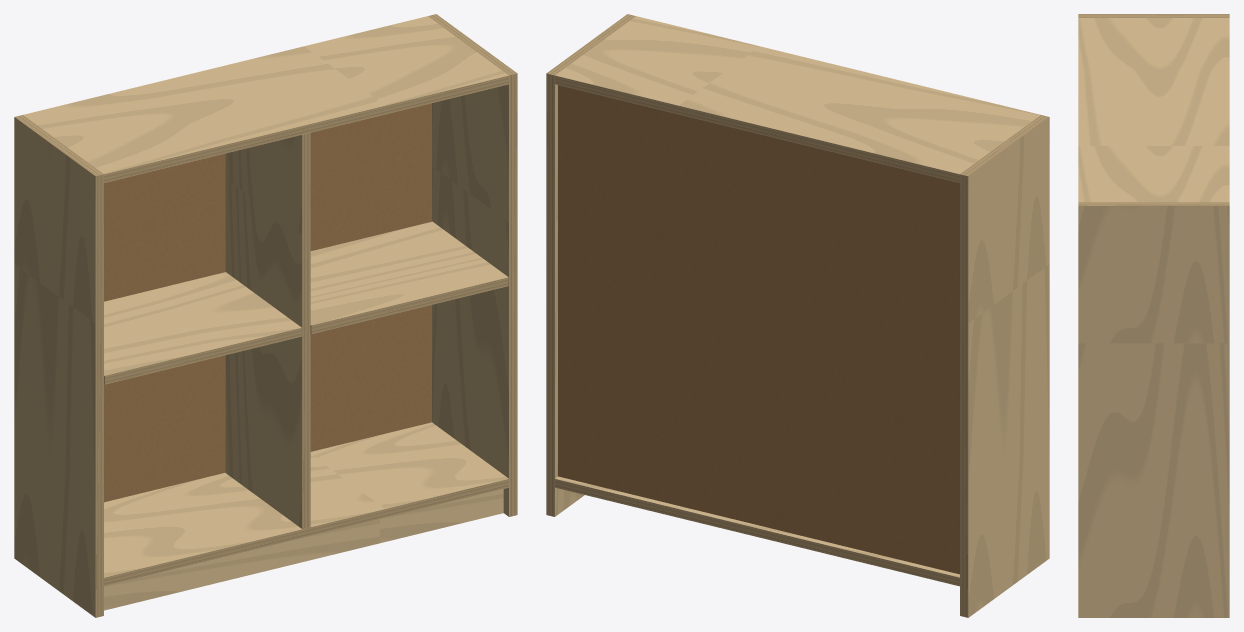
The model's file is SAB-KBK-low.glb.
3 renders of one model, left to right at view 1: azimuth 30°, elevation 25°; view 2: azimuth 150°, elevation 25°; view 3: azimuth 270°, elevation 25°, orthographic. The views are drawn at different scales.
Parts seen in each view (by area): view 1: back:sheet:eyJtIjoibWRmIiwic2lkZSI6ImZhY2UiLCJzZWVkIjoxLCJ0a, side-l:sheet:eyJtIjoicGx5Iiwic2lkZSI6ImZhY2UiLCJzZWVkIjoxLCJ, top:sheet:eyJtIjoicGx5Iiwic2lkZSI6ImZhY2UiLCJzZWVkIjo2LCJ2ZW, bottom:sheet:eyJtIjoicGx5Iiwic2lkZSI6ImZhY2UiLCJzZWVkIjowLCJ, partition:sheet:eyJtIjoicGx5Iiwic2lkZSI6ImZhY2UiLCJzZWVkIjo0, side-r:sheet:eyJtIjoicGx5Iiwic2lkZSI6ImZhY2UiLCJzZWVkIjozLCJ, shelf-2:sheet:eyJtIjoicGx5Iiwic2lkZSI6ImZhY2UiLCJzZWVkIjo1LC, shelf-1:sheet:eyJtIjoicGx5Iiwic2lkZSI6ImZhY2UiLCJzZWVkIjoyLC, plinth:sheet:eyJtIjoicGx5Iiwic2lkZSI6ImZhY2UiLCJzZWVkIjozLCJ, side-l:sheet:eyJtIjoicGx5Iiwic2lkZSI6ImVkZ2UtbG9uZyIsInNlZWQ, side-r:sheet:eyJtIjoicGx5Iiwic2lkZSI6ImVkZ2UtbG9uZyIsInNlZWQ, bottom:sheet:eyJtIjoicGx5Iiwic2lkZSI6ImVkZ2UtbG9uZyIsInNlZWQ (+6 smaller); view 2: back:sheet:eyJtIjoibWRmIiwic2lkZSI6ImZhY2UiLCJzZWVkIjoxLCJ0a, side-l:sheet:eyJtIjoicGx5Iiwic2lkZSI6ImZhY2UiLCJzZWVkIjoxLCJ, top:sheet:eyJtIjoicGx5Iiwic2lkZSI6ImZhY2UiLCJzZWVkIjo2LCJ2ZW, side-l:sheet:eyJtIjoicGx5Iiwic2lkZSI6ImVkZ2UtbG9uZyIsInNlZWQ, side-r:sheet:eyJtIjoicGx5Iiwic2lkZSI6ImVkZ2UtbG9uZyIsInNlZWQ, bottom:sheet:eyJtIjoicGx5Iiwic2lkZSI6ImVkZ2UtbG9uZyIsInNlZWQ, top:sheet:eyJtIjoicGx5Iiwic2lkZSI6ImVkZ2UtbG9uZyIsInNlZWQiOj, side-r:sheet:eyJtIjoicGx5Iiwic2lkZSI6ImZhY2UiLCJzZWVkIjozLCJ, bottom:sheet:eyJtIjoicGx5Iiwic2lkZSI6ImZhY2UiLCJzZWVkIjowLCJ, side-r:sheet:eyJtIjoicGx5Iiwic2lkZSI6ImVkZ2UtZW5kIiwic2VlZCI, side-l:sheet:eyJtIjoicGx5Iiwic2lkZSI6ImVkZ2UtZW5kIiwic2VlZCI; view 3: side-r:sheet:eyJtIjoicGx5Iiwic2lkZSI6ImZhY2UiLCJzZWVkIjozLCJ, top:sheet:eyJtIjoicGx5Iiwic2lkZSI6ImZhY2UiLCJzZWVkIjo2LCJ2ZW, side-l:sheet:eyJtIjoicGx5Iiwic2lkZSI6ImVkZ2UtZW5kIiwic2VlZCI, side-r:sheet:eyJtIjoicGx5Iiwic2lkZSI6ImVkZ2UtZW5kIiwic2VlZCI.
Part boxes in pixels (x1,y1,x2,y2): back:sheet:eyJtIjoibWRmIiwic2lkZSI6ImZhY2UiLCJzZWVkIjoxLCJ0a: (104,103,431,502); side-l:sheet:eyJtIjoicGx5Iiwic2lkZSI6ImZhY2UiLCJzZWVkIjoxLCJ: (14,117,95,617); top:sheet:eyJtIjoicGx5Iiwic2lkZSI6ImZhY2UiLCJzZWVkIjo2LCJ2ZW: (23,16,508,174); bottom:sheet:eyJtIjoicGx5Iiwic2lkZSI6ImZhY2UiLCJzZWVkIjowLCJ: (104,422,508,577); partition:sheet:eyJtIjoicGx5Iiwic2lkZSI6ImZhY2UiLCJzZWVkIjo0: (225,135,302,528); side-r:sheet:eyJtIjoicGx5Iiwic2lkZSI6ImZhY2UiLCJzZWVkIjozLCJ: (432,84,508,516); shelf-2:sheet:eyJtIjoicGx5Iiwic2lkZSI6ImZhY2UiLCJzZWVkIjo1LC: (310,221,508,325); shelf-1:sheet:eyJtIjoicGx5Iiwic2lkZSI6ImZhY2UiLCJzZWVkIjoyLC: (104,272,301,375); plinth:sheet:eyJtIjoicGx5Iiwic2lkZSI6ImZhY2UiLCJzZWVkIjozLCJ: (104,489,503,610); side-l:sheet:eyJtIjoicGx5Iiwic2lkZSI6ImVkZ2UtbG9uZyIsInNlZWQ: (95,174,103,617); side-r:sheet:eyJtIjoicGx5Iiwic2lkZSI6ImVkZ2UtbG9uZyIsInNlZWQ: (509,73,517,516); bottom:sheet:eyJtIjoicGx5Iiwic2lkZSI6ImVkZ2UtbG9uZyIsInNlZWQ: (104,479,508,586); back:sheet:eyJtIjoibWRmIiwic2lkZSI6ImZhY2UiLCJzZWVkIjoxLCJ0a: (558,85,959,574); side-l:sheet:eyJtIjoicGx5Iiwic2lkZSI6ImZhY2UiLCJzZWVkIjoxLCJ: (968,117,1049,617); top:sheet:eyJtIjoicGx5Iiwic2lkZSI6ImZhY2UiLCJzZWVkIjo2LCJ2ZW: (555,16,1040,174); side-l:sheet:eyJtIjoicGx5Iiwic2lkZSI6ImVkZ2UtbG9uZyIsInNlZWQ: (960,174,968,617); side-r:sheet:eyJtIjoicGx5Iiwic2lkZSI6ImVkZ2UtbG9uZyIsInNlZWQ: (546,73,554,516); bottom:sheet:eyJtIjoicGx5Iiwic2lkZSI6ImVkZ2UtbG9uZyIsInNlZWQ: (555,479,959,586); top:sheet:eyJtIjoicGx5Iiwic2lkZSI6ImVkZ2UtbG9uZyIsInNlZWQiOj: (555,75,959,182); side-r:sheet:eyJtIjoicGx5Iiwic2lkZSI6ImZhY2UiLCJzZWVkIjozLCJ: (555,84,584,516); bottom:sheet:eyJtIjoicGx5Iiwic2lkZSI6ImZhY2UiLCJzZWVkIjowLCJ: (555,476,959,577); side-r:sheet:eyJtIjoicGx5Iiwic2lkZSI6ImVkZ2UtZW5kIiwic2VlZCI: (546,14,635,75); side-l:sheet:eyJtIjoicGx5Iiwic2lkZSI6ImVkZ2UtZW5kIiwic2VlZCI: (960,115,1048,176); side-r:sheet:eyJtIjoicGx5Iiwic2lkZSI6ImZhY2UiLCJzZWVkIjozLCJ: (1078,206,1229,617); top:sheet:eyJtIjoicGx5Iiwic2lkZSI6ImZhY2UiLCJzZWVkIjo2LCJ2ZW: (1078,18,1229,202); side-l:sheet:eyJtIjoicGx5Iiwic2lkZSI6ImVkZ2UtZW5kIiwic2VlZCI: (1078,14,1229,17); side-r:sheet:eyJtIjoicGx5Iiwic2lkZSI6ImVkZ2UtZW5kIiwic2VlZCI: (1078,202,1229,205).
Bounding box in the file's own units: 0.9 × 0.9 × 0.3.
27 materials, 27 textured.
